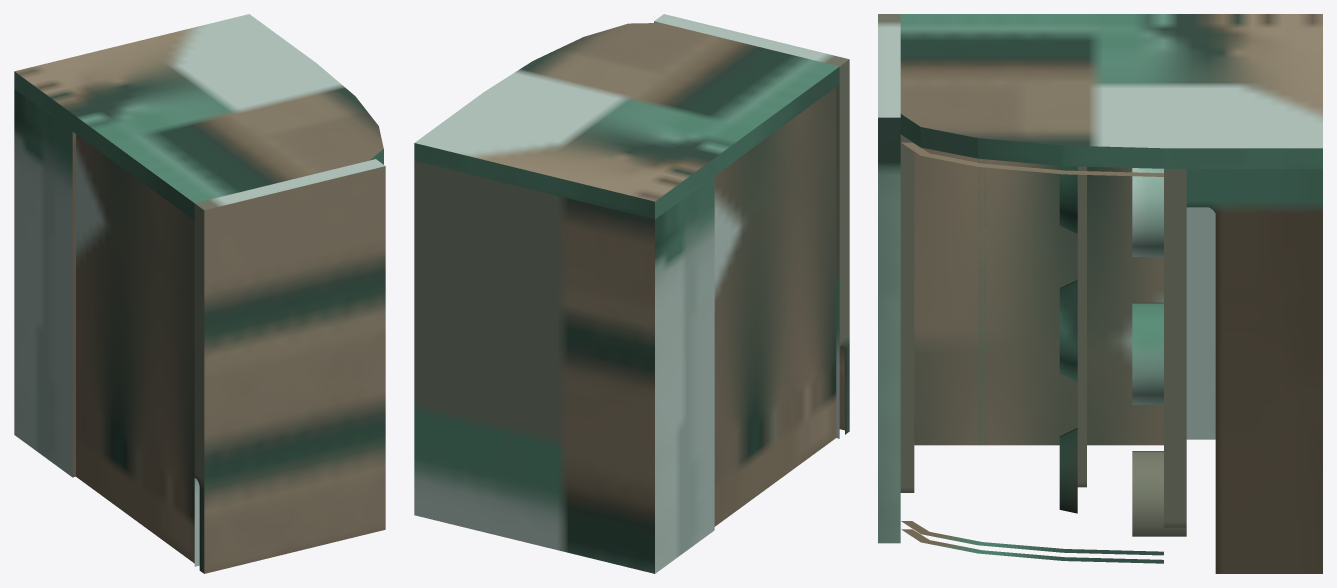
Rendered from section-4.obj.
The picture shows the model from 3 angles, left to right: view 1: azimuth 30°, elevation 25°; view 2: azimuth 150°, elevation 25°; view 3: azimuth 270°, elevation 25°; orthographic projection. The views are drawn at different scales.
Bounding box in the file's own units: 0.7 × 1.04 × 0.98.
